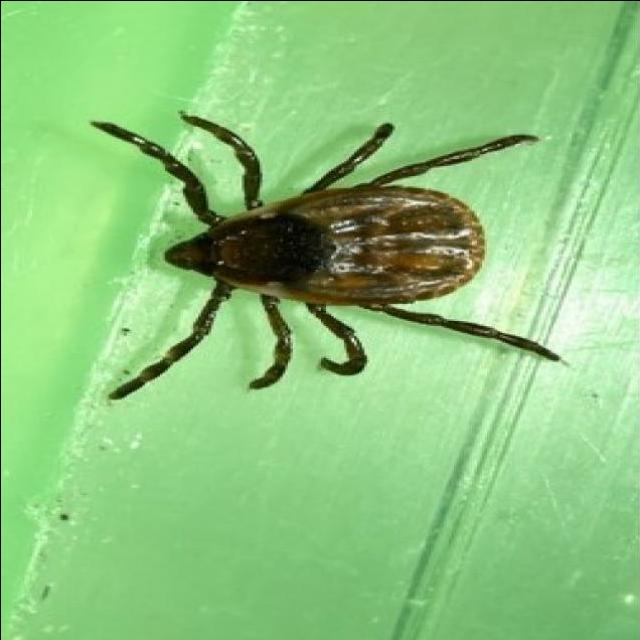Rhipicephalus Sanguineus-F: (88, 110, 561, 402)
